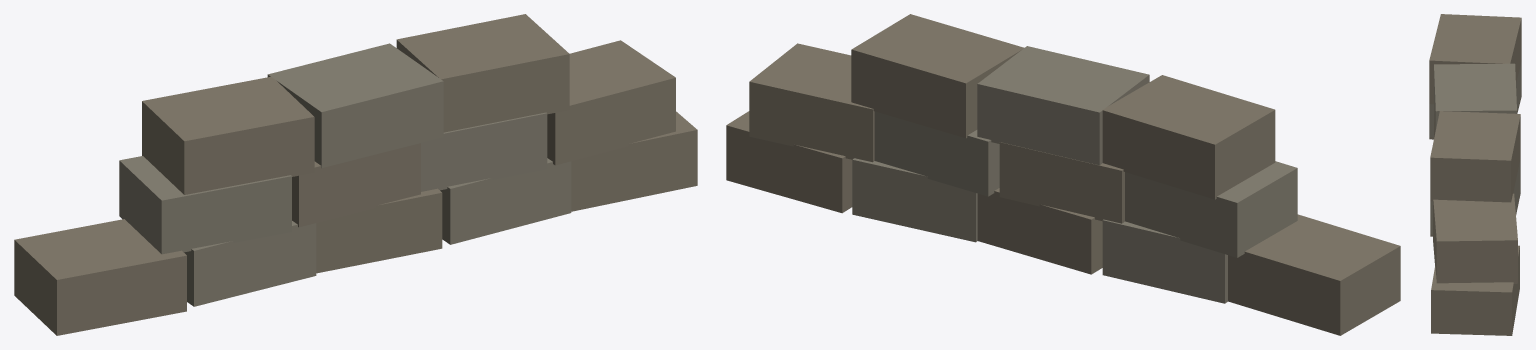
The model's file is sandbags.glb.
The picture shows the model from 3 angles, left to right: view 1: azimuth 30°, elevation 25°; view 2: azimuth 150°, elevation 25°; view 3: azimuth 270°, elevation 25°; orthographic projection. The views are drawn at different scales.
Visible parts, largest first — view 1: bag20, bag00, bag21, bag22, bag13, bag10, bag04, bag03, bag01, bag02, bag12, bag11; view 2: bag20, bag00, bag22, bag21, bag13, bag10, bag04, bag01, bag03, bag11, bag02, bag12; view 3: bag22, bag13, bag04, bag20, bag21, bag10, bag12.
Part boxes in pixels (<box>): bag20: <box>142,76,314,194</box>; bag00: <box>14,219,186,335</box>; bag21: <box>267,43,443,167</box>; bag22: <box>396,14,569,132</box>; bag13: <box>547,40,675,165</box>; bag10: <box>119,156,291,254</box>; bag04: <box>571,111,697,211</box>; bag03: <box>440,158,571,244</box>; bag01: <box>184,221,316,306</box>; bag02: <box>316,188,442,273</box>; bag12: <box>421,112,547,191</box>; bag11: <box>292,143,420,227</box>; bag20: <box>1102,75,1275,199</box>; bag00: <box>1228,214,1400,335</box>; bag22: <box>851,14,1024,138</box>; bag21: <box>977,46,1149,165</box>; bag13: <box>749,43,874,162</box>; bag10: <box>1125,161,1297,257</box>; bag04: <box>726,111,852,213</box>; bag01: <box>1102,219,1227,303</box>; bag03: <box>852,158,977,242</box>; bag11: <box>999,142,1124,223</box>; bag02: <box>977,188,1102,274</box>; bag12: <box>874,111,999,196</box>; bag22: <box>1430,111,1520,202</box>; bag13: <box>1433,193,1517,283</box>; bag04: <box>1431,245,1519,335</box>; bag20: <box>1429,14,1521,104</box>; bag21: <box>1434,63,1516,133</box>; bag10: <box>1429,62,1521,137</box>; bag12: <box>1430,159,1520,234</box>.
Bounding box in the file's own units: 3.12 × 0.76 × 0.5003.
